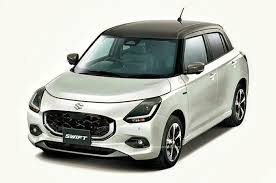Swift: (26, 9, 252, 166)
